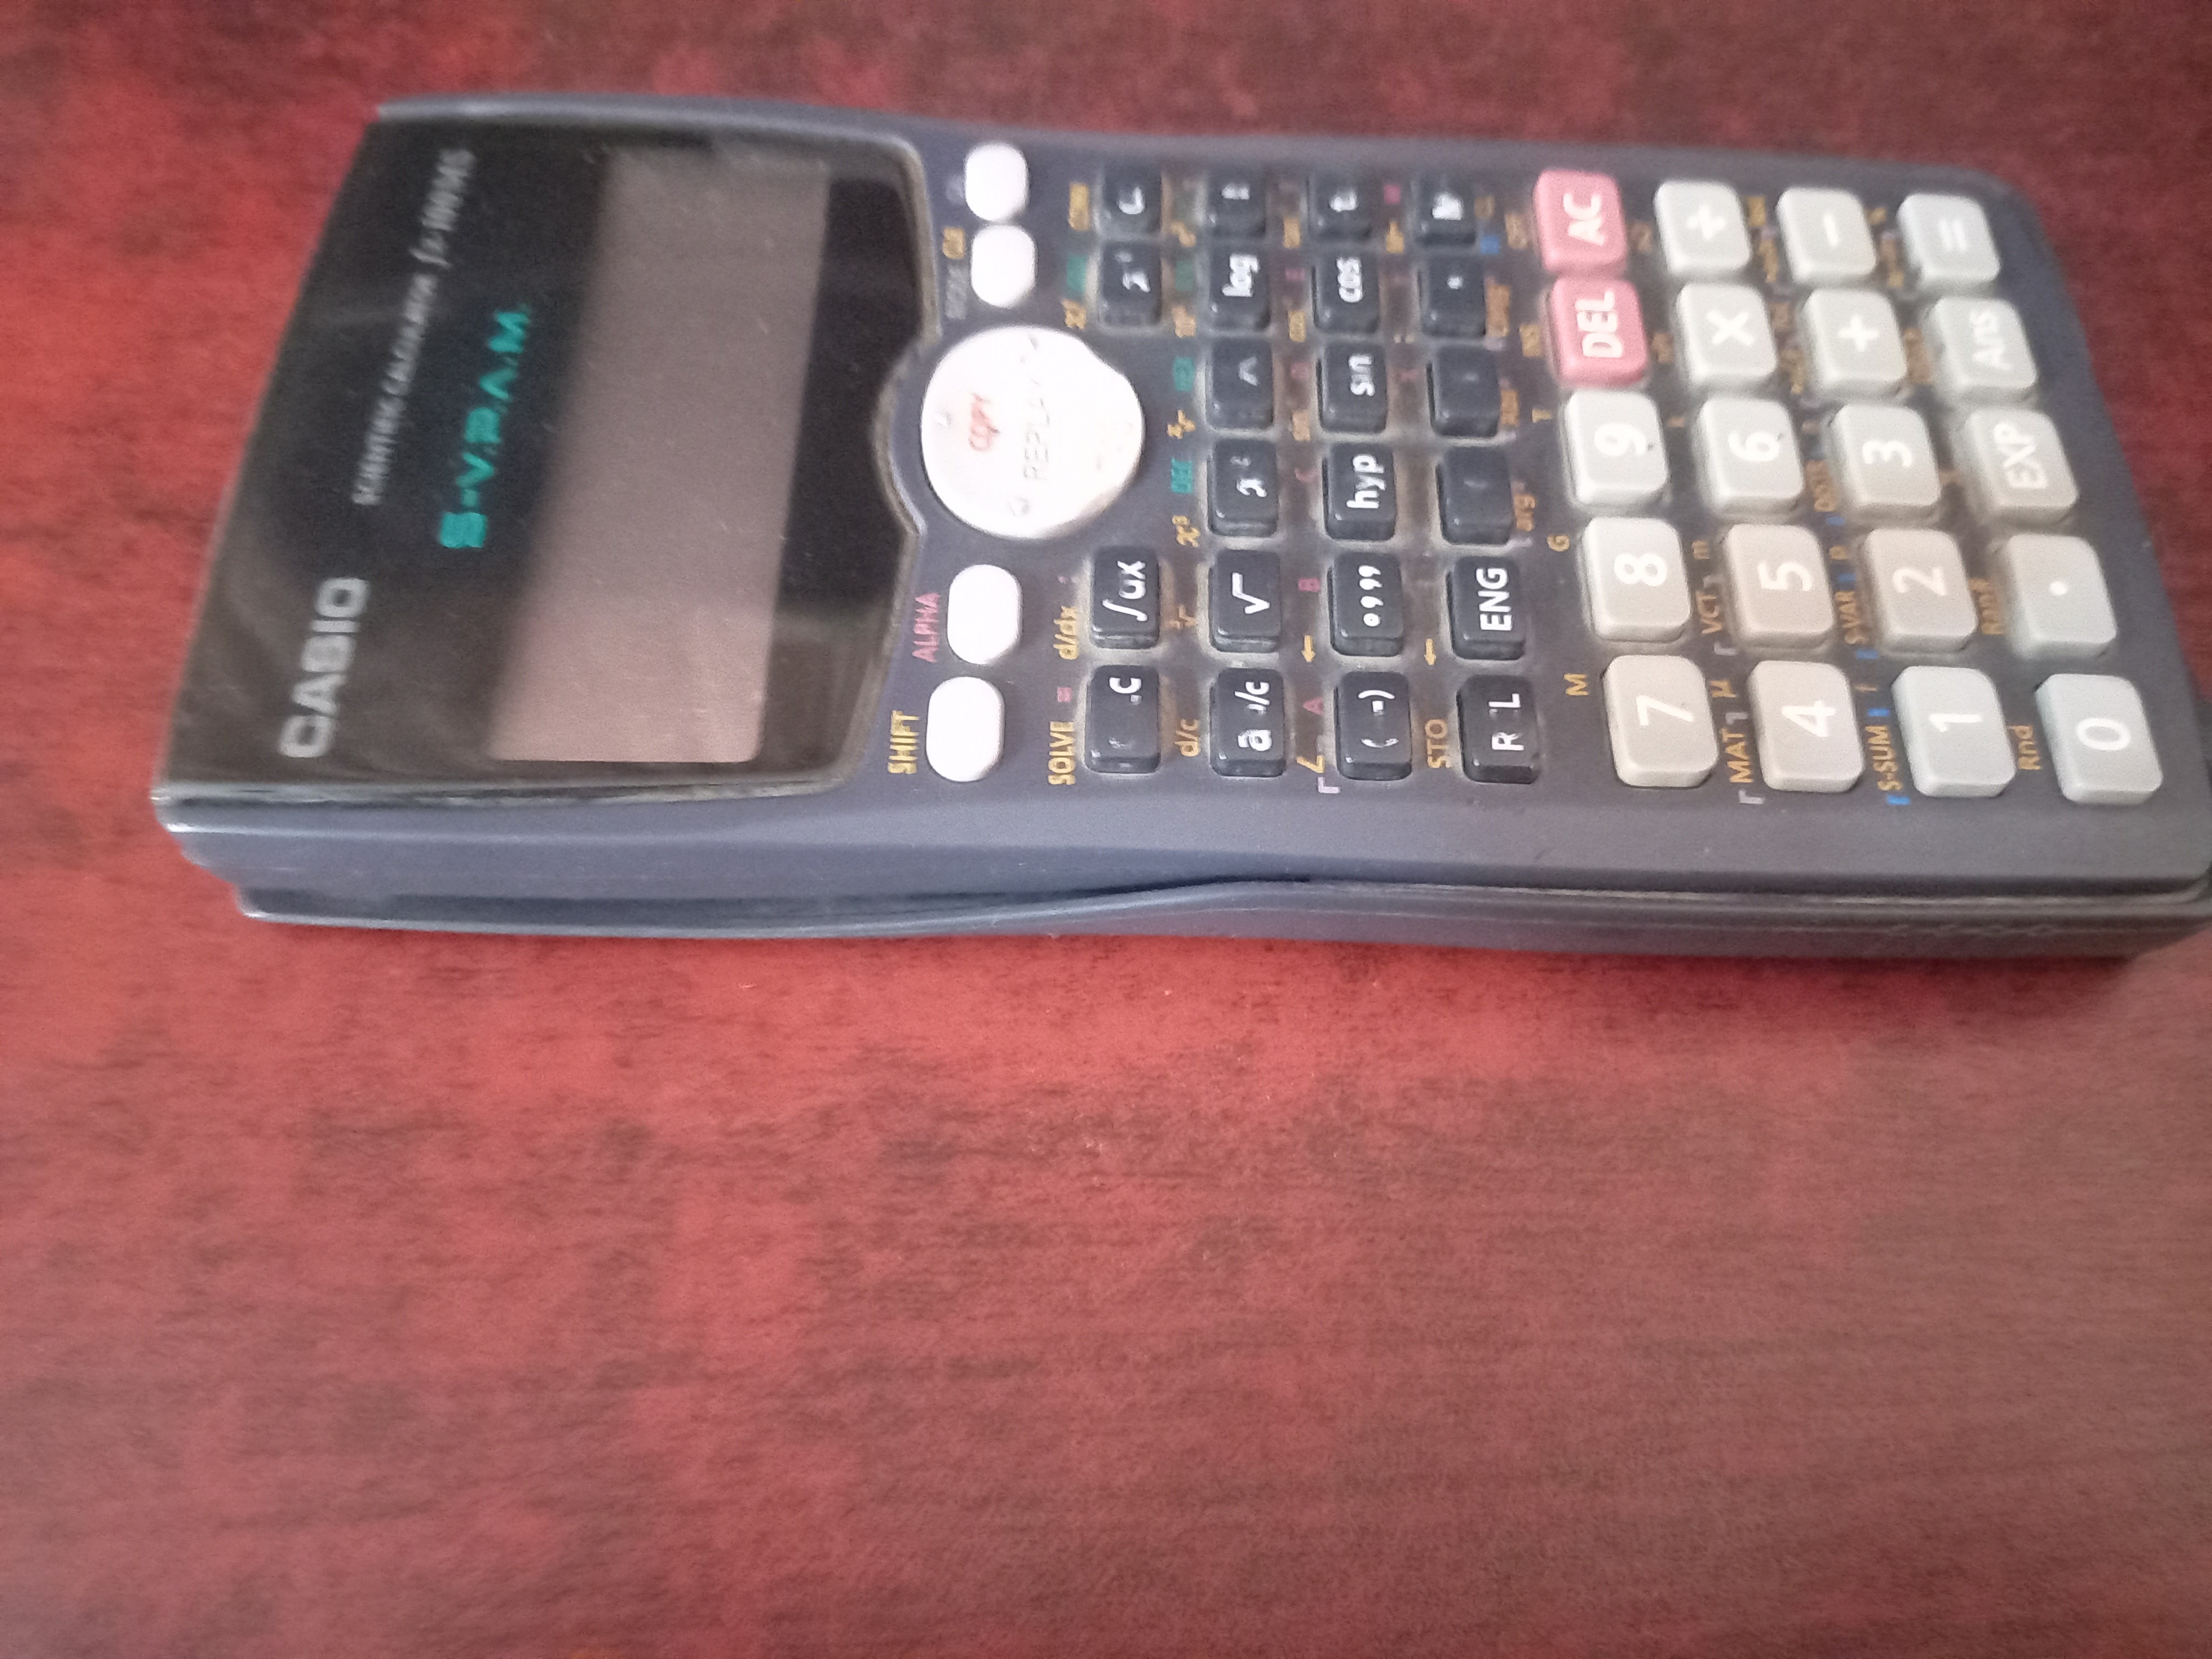calculator: (380, 113, 2195, 904)
